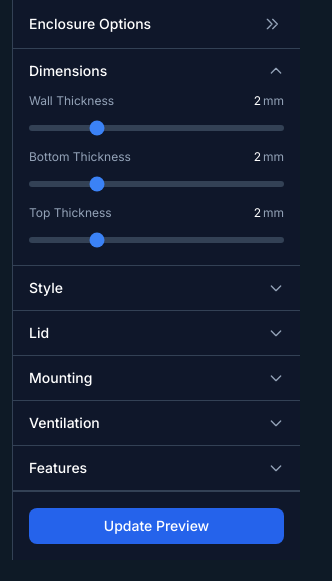
Test case: EnclosureOptionsPanel › shows chamfer size for chamfered style
The width and height of the screenshot is (332, 581).
Click the button "Style": {"x": 46, "y": 288} [13,266,300,310]
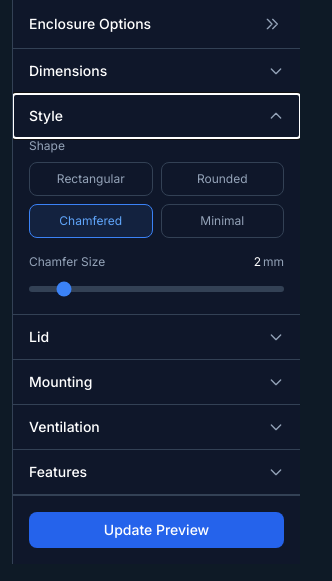
Now the text "Chamfer Size" is shown, box [29,254,105,270]
